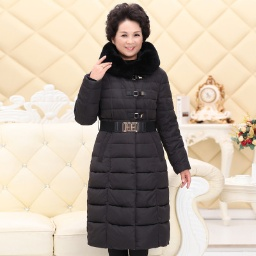face: (105, 4, 155, 57)
